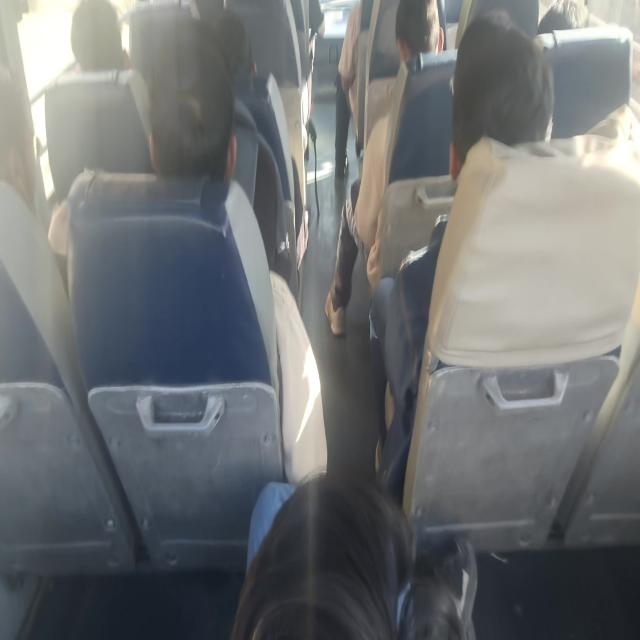person: (236, 458, 498, 637), (440, 20, 556, 187), (143, 33, 246, 181), (0, 91, 55, 194), (69, 0, 136, 83), (398, 0, 449, 84), (544, 0, 610, 41)
